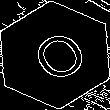O_SE: (19, 22, 91, 88)
